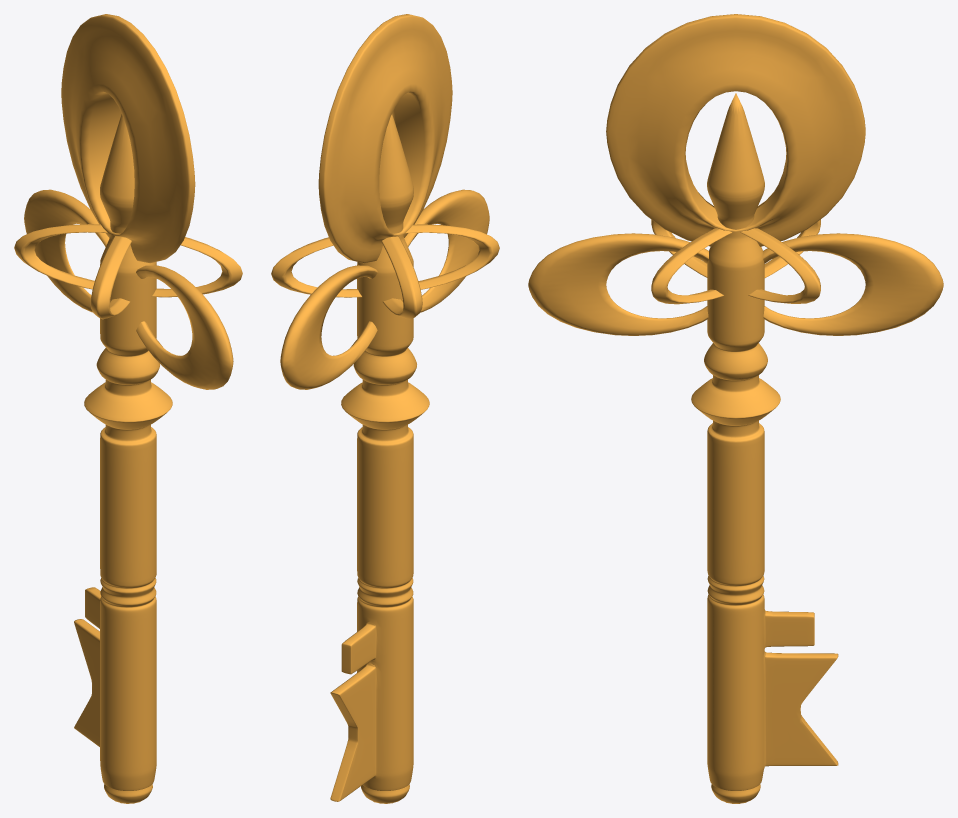
Rendered from key.fbx.
3 renders of one model, left to right at view 1: azimuth 30°, elevation 25°; view 2: azimuth 150°, elevation 25°; view 3: azimuth 270°, elevation 25°, orthographic.
Visible parts, largest first — view 1: Cylinder, Circle.003, Circle, Circle.002, Circle.001; view 2: Cylinder, Circle.003, Circle, Circle.001, Circle.002; view 3: Cylinder, Circle.003, Circle, Circle.002, Circle.001.
Part boxes in pixels (<box>): Cylinder: <box>74,114,172,803</box>; Circle.003: <box>61,14,195,263</box>; Circle: <box>24,189,233,389</box>; Circle.002: <box>14,224,242,297</box>; Circle.001: <box>90,236,131,319</box>; Cylinder: <box>330,114,429,803</box>; Circle.003: <box>318,14,452,263</box>; Circle: <box>280,189,489,389</box>; Circle.001: <box>271,224,499,297</box>; Circle.002: <box>381,236,422,319</box>; Cylinder: <box>691,93,838,803</box>; Circle.003: <box>606,14,865,246</box>; Circle: <box>528,233,943,335</box>; Circle.002: <box>651,219,820,304</box>; Circle.001: <box>651,219,820,303</box>.
Bounding box in the file's own units: 21.23 × 108 × 51.79.
